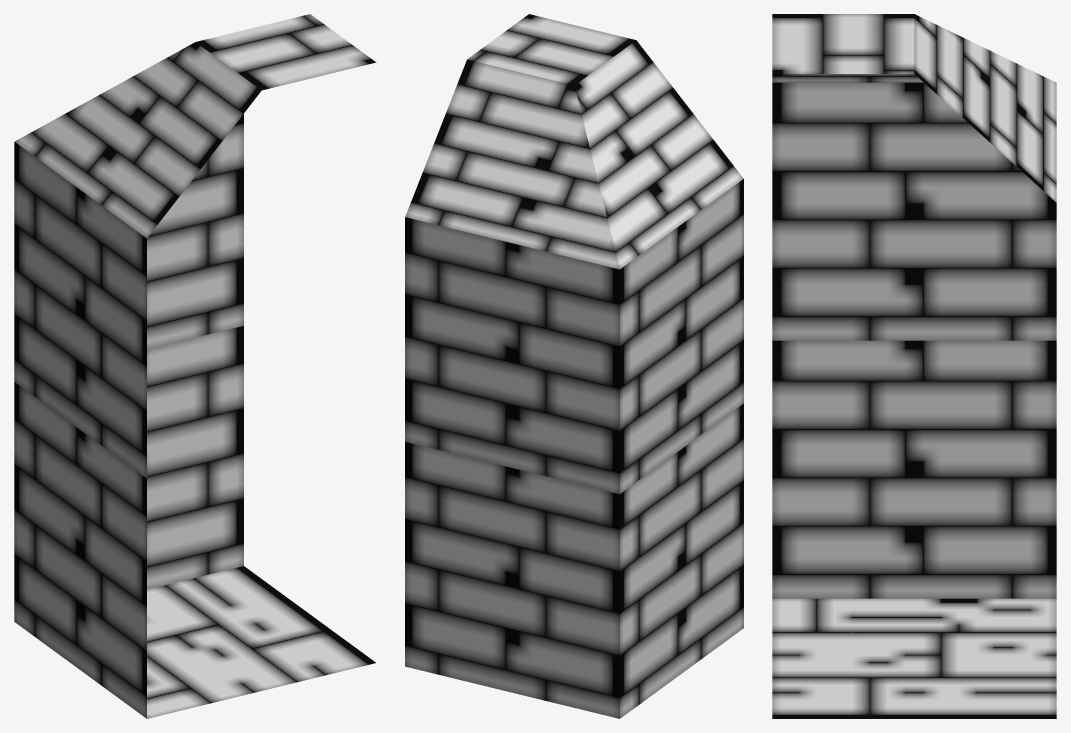
Rendered from bricks_wood_wall-inner-corner.fbx.
The picture shows the model from 3 angles, left to right: view 1: azimuth 30°, elevation 25°; view 2: azimuth 150°, elevation 25°; view 3: azimuth 270°, elevation 25°; orthographic projection. The views are drawn at different scales.
Parts seen in each view (by area): view 1: bricks_wood_wall-inner-corner; view 2: bricks_wood_wall-inner-corner; view 3: bricks_wood_wall-inner-corner.
Part boxes in pixels (box(x1,y1,x2,y2)): bricks_wood_wall-inner-corner: box(14, 14, 376, 718); bricks_wood_wall-inner-corner: box(405, 14, 743, 718); bricks_wood_wall-inner-corner: box(772, 14, 1056, 718).
Size of the model in its own units: 100 by 100 by 250.
